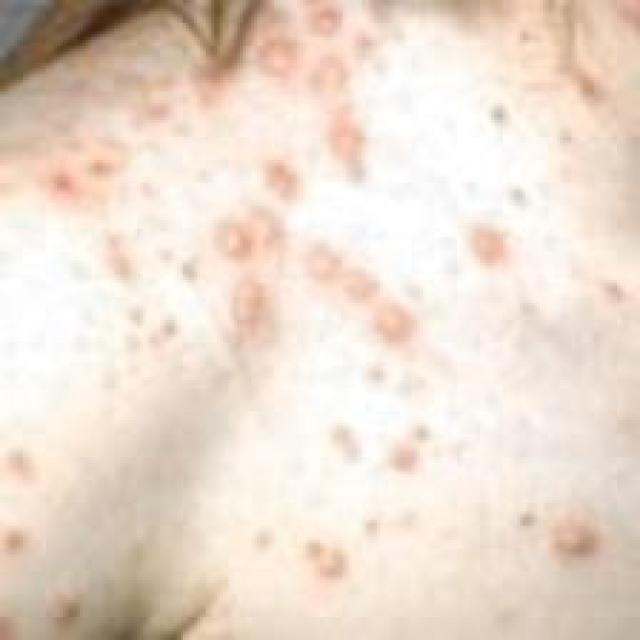others: (5, 30, 599, 579)
